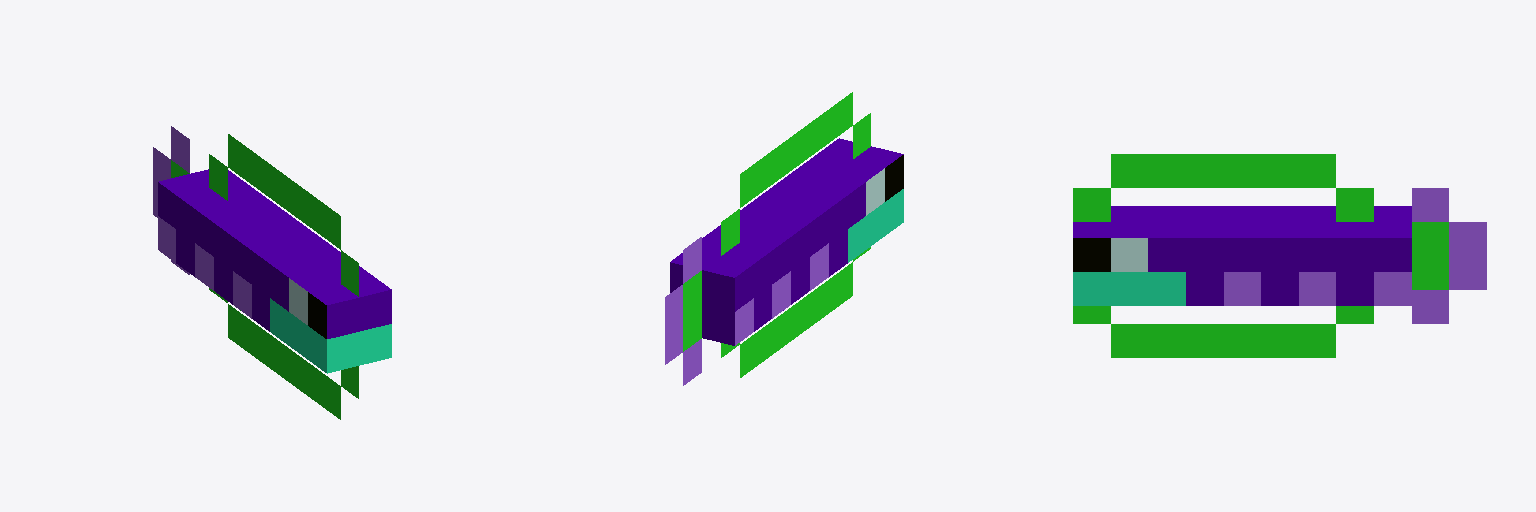
3 renders of one model, left to right at view 1: azimuth 30°, elevation 25°; view 2: azimuth 150°, elevation 25°; view 3: azimuth 270°, elevation 25°, orthographic.
Visible parts, largest first — view 1: cube; view 2: cube; view 3: cube.
Boxes of the visible parts, <box> form: cube: <box>153,126,391,419</box>; cube: <box>665,92,903,385</box>; cube: <box>1073,154,1486,357</box>.
Size of the model in its own units: 0.125 by 0.375 by 0.6875.
Materials: 1 (1 with a texture image).